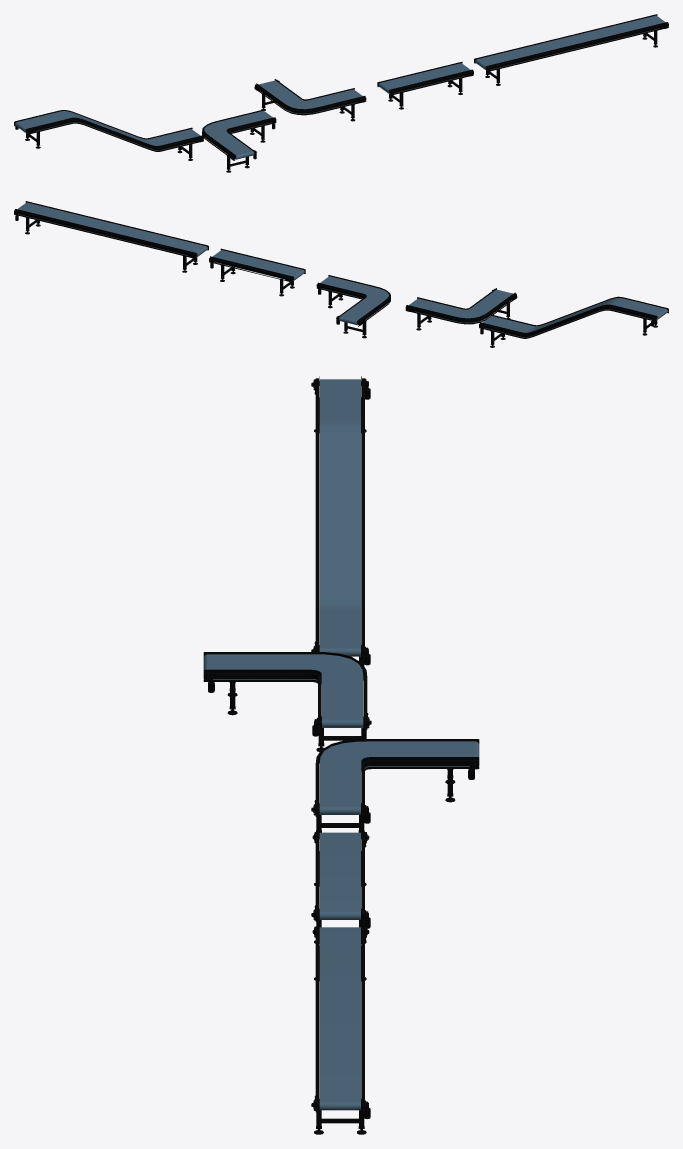
Rendered from Tapis_indus.fbx.
The picture shows the model from 3 angles, top to bottom: view 1: azimuth 30°, elevation 25°; view 2: azimuth 150°, elevation 25°; view 3: azimuth 270°, elevation 25°; orthographic projection. The views are drawn at different scales.
Parts seen in each view (by area): view 1: tapis_roulant_droit_long, tapis_roulant_pente, tapis_roulant_angle_2, tapis_roulant_angle_1, tapis_roulant_droit_court; view 2: tapis_roulant_droit_long, tapis_roulant_pente, tapis_roulant_angle_1, tapis_roulant_angle_2, tapis_roulant_droit_court; view 3: tapis_roulant_pente, tapis_roulant_droit_long, tapis_roulant_angle_1, tapis_roulant_angle_2, tapis_roulant_droit_court.
Part boxes in pixels (left/top/right/bottom): tapis_roulant_droit_long: left=474, top=14, right=668, bottom=85; tapis_roulant_pente: left=14, top=110, right=203, bottom=160; tapis_roulant_angle_2: left=202, top=109, right=276, bottom=172; tapis_roulant_angle_1: left=254, top=79, right=366, bottom=121; tapis_roulant_droit_court: left=377, top=62, right=473, bottom=109; tapis_roulant_droit_long: left=14, top=201, right=208, bottom=272; tapis_roulant_pente: left=479, top=296, right=668, bottom=347; tapis_roulant_angle_1: left=316, top=275, right=390, bottom=338; tapis_roulant_angle_2: left=405, top=288, right=517, bottom=330; tapis_roulant_droit_court: left=209, top=248, right=305, bottom=296; tapis_roulant_pente: left=311, top=376, right=370, bottom=680; tapis_roulant_droit_long: left=311, top=924, right=370, bottom=1134; tapis_roulant_angle_1: left=311, top=739, right=479, bottom=833; tapis_roulant_angle_2: left=203, top=652, right=371, bottom=751; tapis_roulant_droit_court: left=311, top=829, right=370, bottom=943.
Bounding box in the file's own units: 5794 × 612 × 1077.
